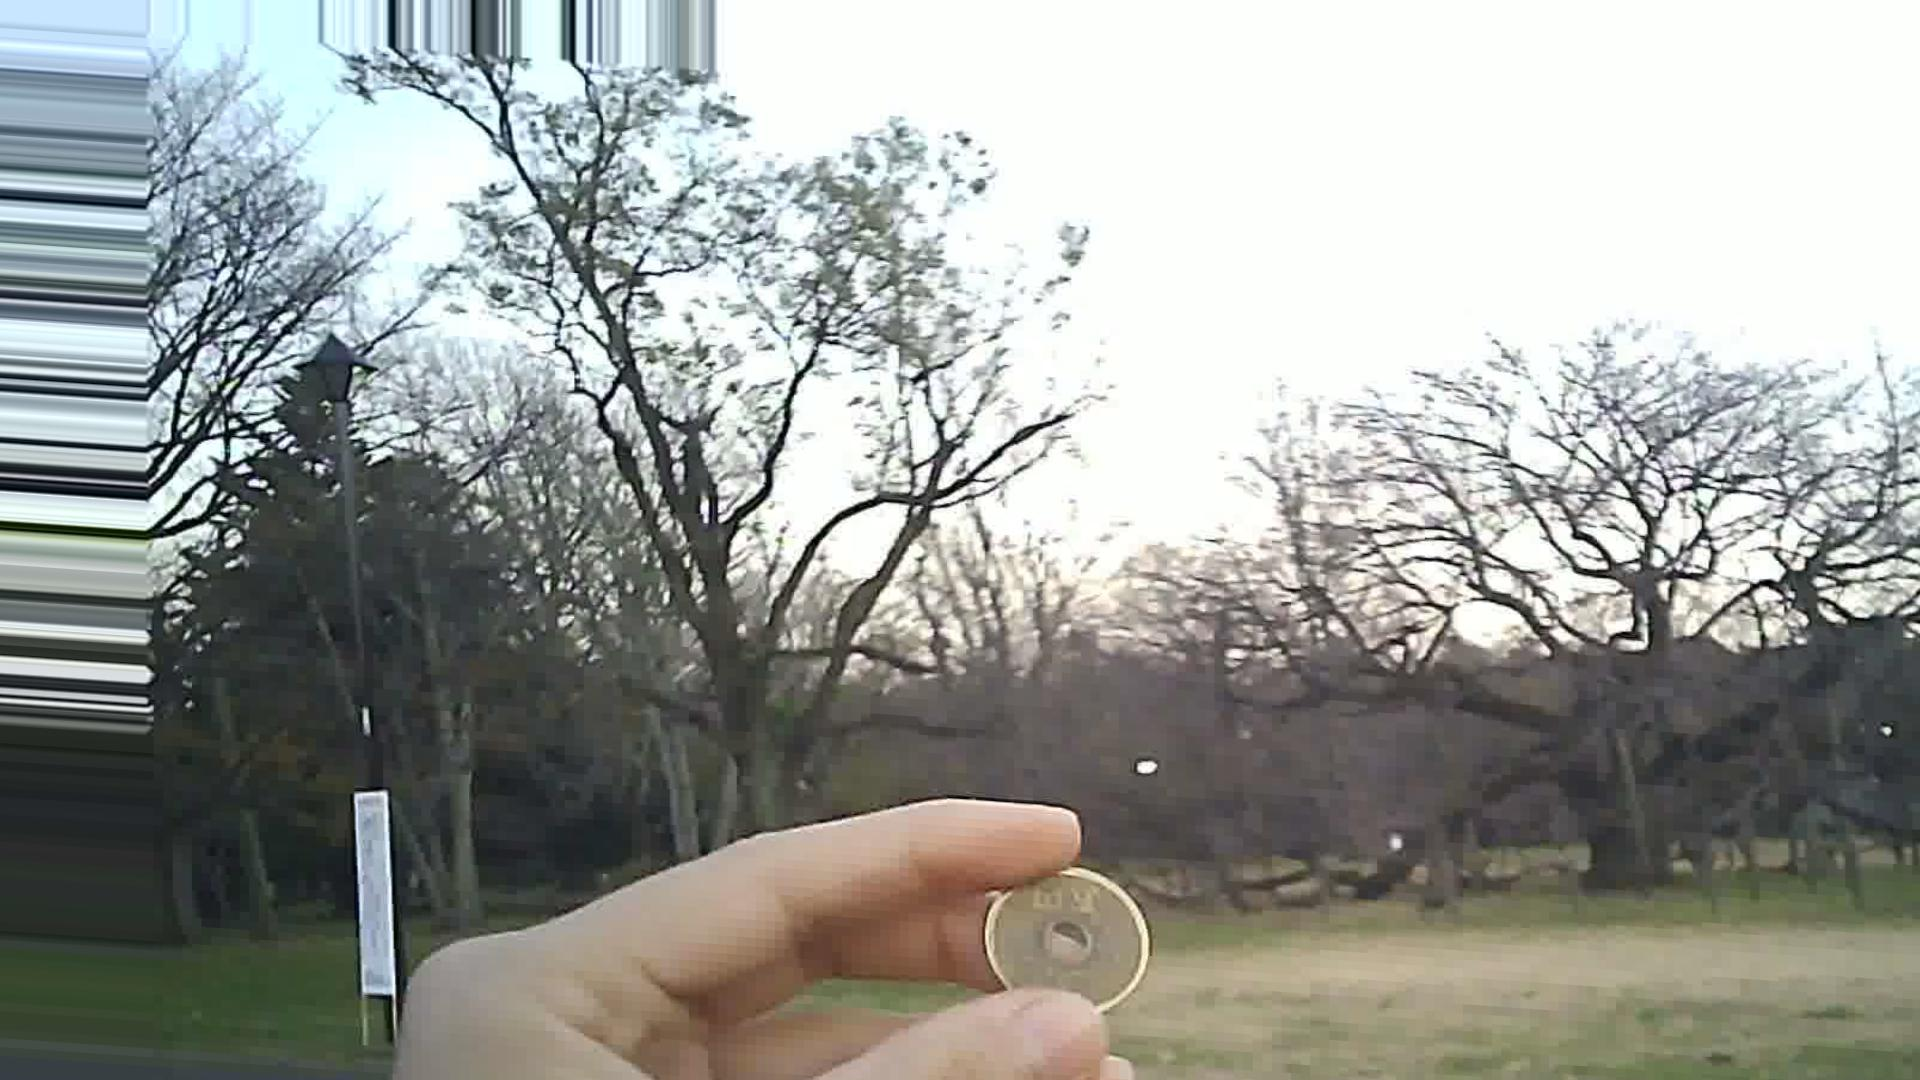5 Yen: (972, 862, 1158, 1029)
